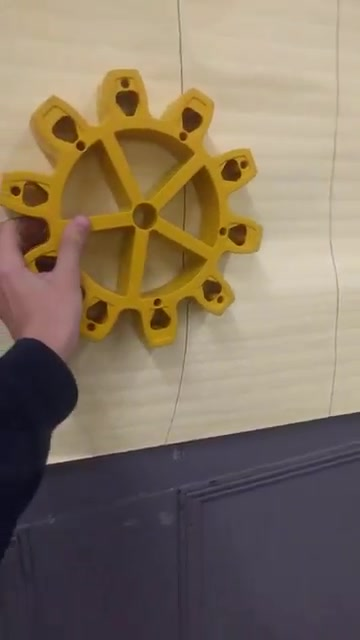gear: (1, 56, 267, 351)
